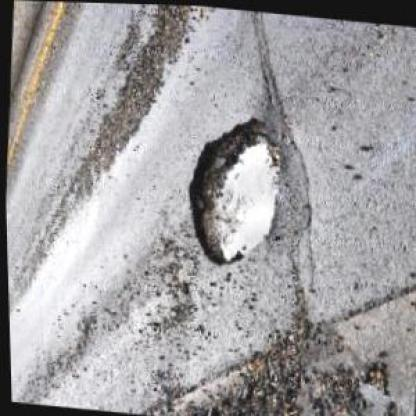pothole: (176, 107, 286, 272)
